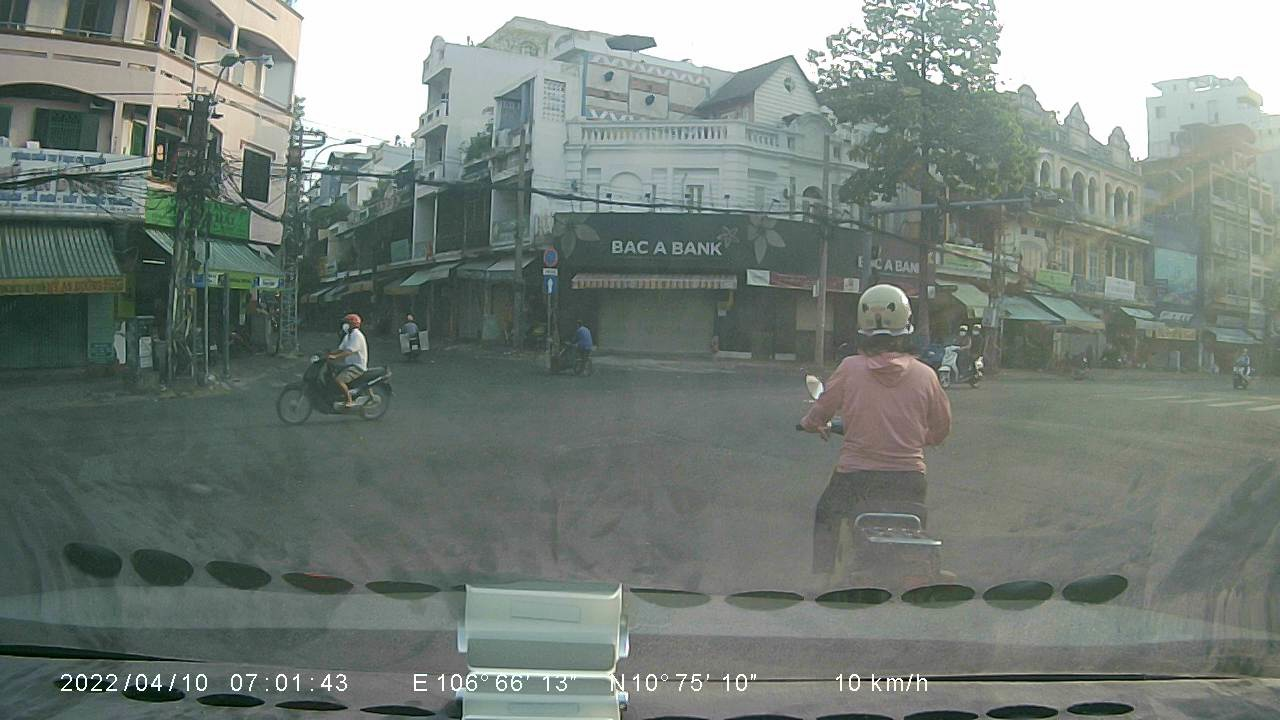Bien khac: (539, 274, 563, 297)
